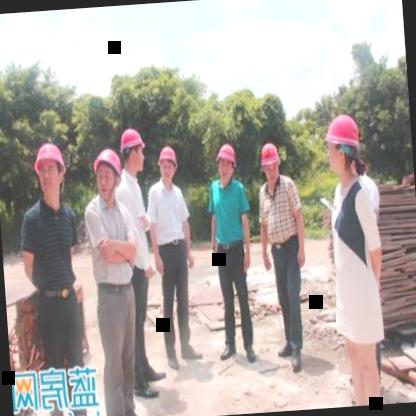helmet: (322, 111, 364, 185), (28, 135, 70, 206), (91, 144, 121, 198), (253, 141, 286, 189), (118, 124, 147, 174), (154, 144, 180, 186), (214, 142, 239, 184)
